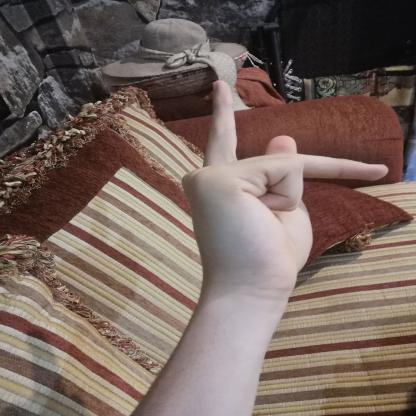DHAA: (168, 72, 401, 294)
